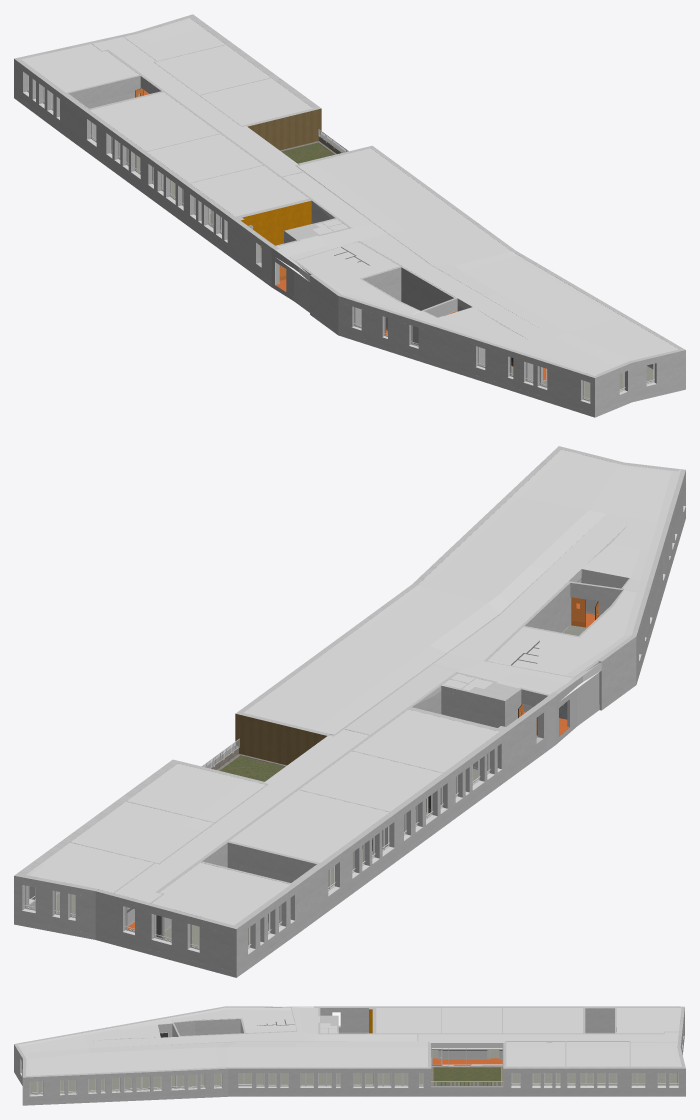
Rendered from imp_2_floor_aisle_b_sized_v2.glb.
The picture shows the model from 3 angles, top to bottom: view 1: azimuth 30°, elevation 25°; view 2: azimuth 150°, elevation 25°; view 3: azimuth 270°, elevation 25°; orthographic projection. The views are drawn at different scales.
Parts seen in each view (by area): view 1: Plafond, Murs, Sol, SM_SM_MERGED_fenetre_2e_aileb.001, Cube_129; view 2: Plafond, Murs, Sol, SM_SM_MERGED_fenetre_2e_aileb.001, Cube_129; view 3: Plafond, Murs, Sol, SM_SM_MERGED_fenetre_2e_aileb.001, Cube_129, Cube_132, Cube_131.
Boxes of the visible parts, x1,y1,x2,y2 form: Plafond: [21, 18, 678, 376]; Murs: [14, 14, 685, 413]; Sol: [14, 89, 685, 417]; SM_SM_MERGED_fenetre_2e_aileb.001: [23, 75, 656, 403]; Cube_129: [280, 134, 344, 163]; Plafond: [26, 449, 680, 925]; Murs: [14, 446, 685, 972]; Sol: [14, 514, 685, 977]; SM_SM_MERGED_fenetre_2e_aileb.001: [22, 506, 685, 954]; Cube_129: [205, 746, 286, 781]; Plafond: [15, 1006, 681, 1077]; Murs: [14, 1006, 685, 1102]; Sol: [14, 1033, 685, 1105]; SM_SM_MERGED_fenetre_2e_aileb.001: [20, 1036, 683, 1096]; Cube_129: [431, 1066, 503, 1093]; Cube_132: [431, 1048, 503, 1066]; Cube_131: [431, 1081, 503, 1085].
Size of what is drawn, in the model's own units: 18.9 by 3.48 by 75.11.
Materials: 38 (12 with a texture image).
